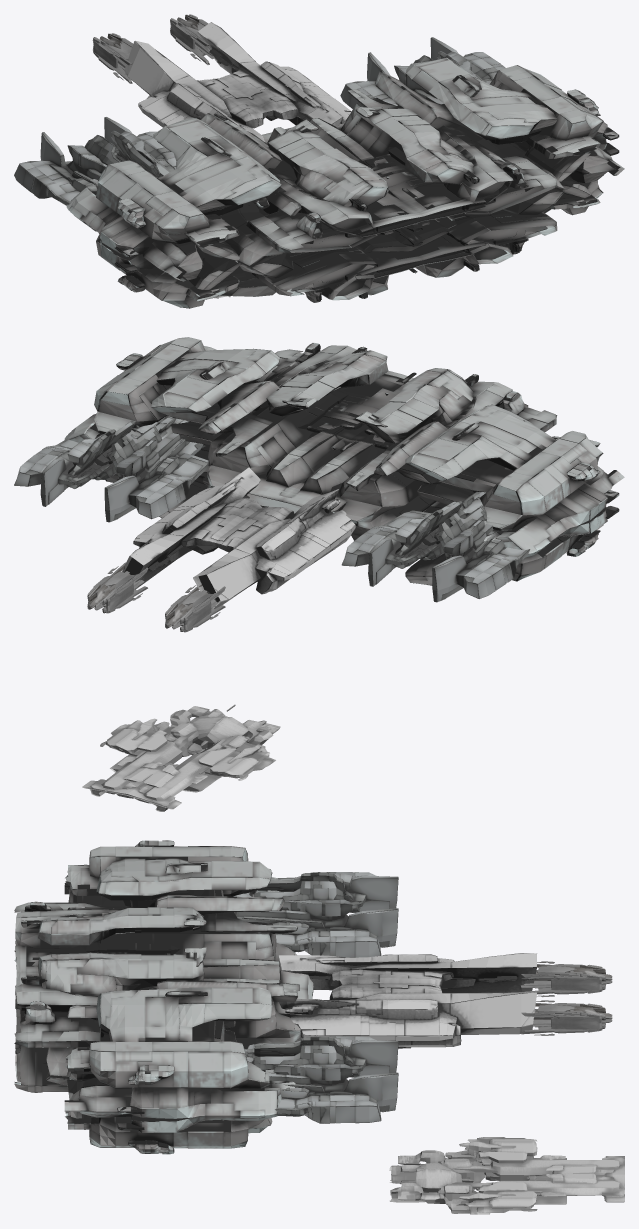
File: DREADNOUGHT_004.fbx
3 views of the same model, one above another, from view 1: azimuth 30°, elevation 25°; view 2: azimuth 150°, elevation 25°; view 3: azimuth 270°, elevation 25° (orthographic). The views are drawn at different scales.
Parts seen in each view (by area): view 1: DREADNOUGHT_004; view 2: DREADNOUGHT_004; view 3: DREADNOUGHT_004.
Boxes of the visible parts, bbox=[...] form: DREADNOUGHT_004: bbox=[14, 14, 624, 308]; DREADNOUGHT_004: bbox=[14, 337, 624, 811]; DREADNOUGHT_004: bbox=[14, 840, 624, 1214].
Size of the model in its own units: 139 by 70.02 by 145.
